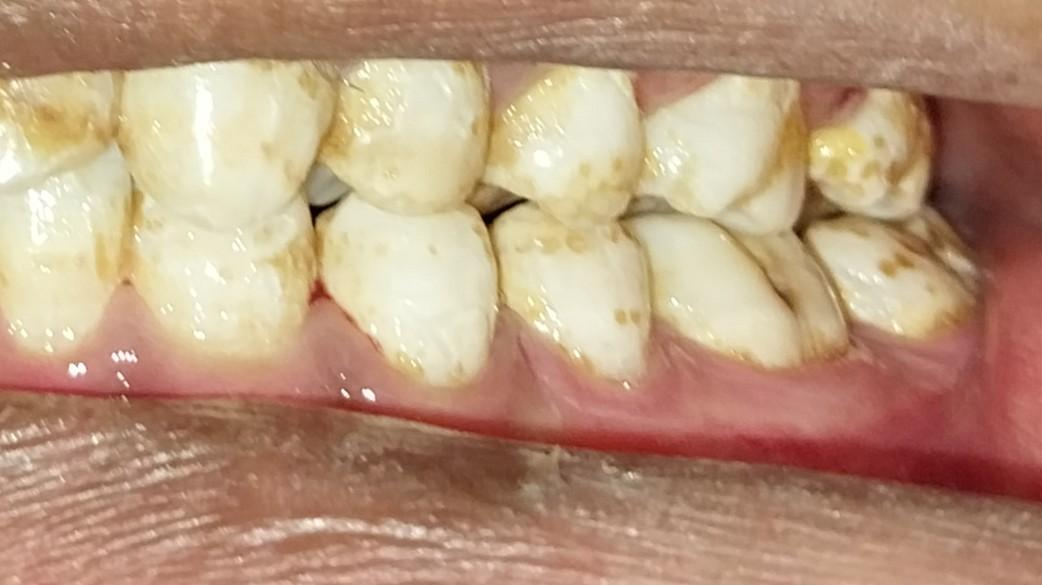D: (641, 214, 853, 360)
